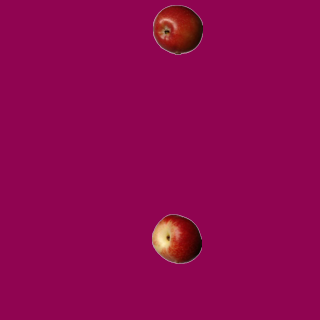Apple Braeburn: (152, 4, 202, 54)
Nectarine: (151, 213, 201, 263)
